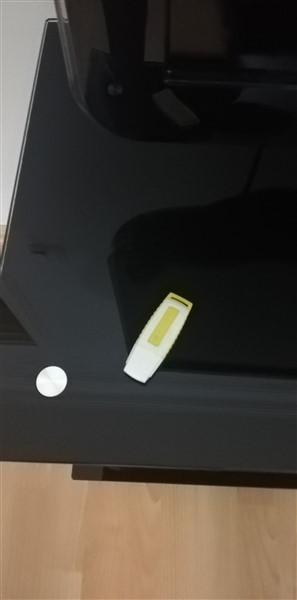flash disk: (115, 291, 193, 394)
